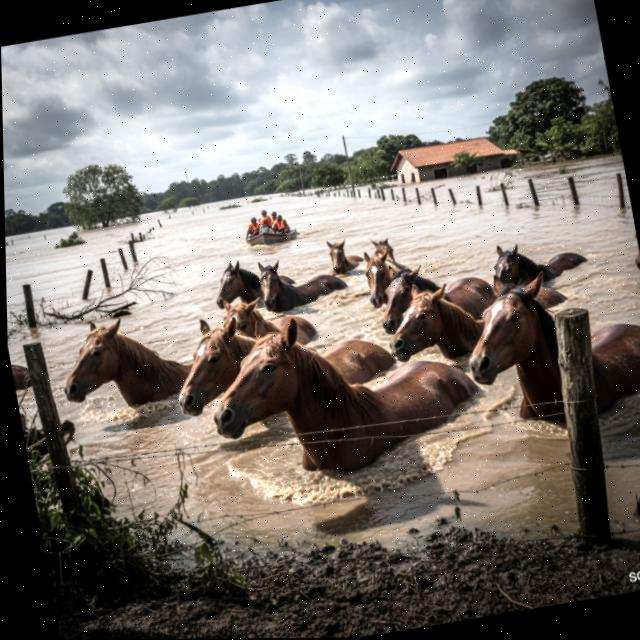civilian: (272, 211, 292, 237), (256, 207, 275, 233), (244, 215, 264, 239), (269, 208, 280, 227)
horse: (191, 278, 504, 498), (159, 281, 410, 445), (447, 252, 640, 454), (47, 291, 219, 436), (373, 265, 576, 382), (360, 246, 504, 336), (214, 281, 323, 363), (479, 224, 595, 300), (248, 245, 353, 318), (204, 249, 300, 316), (354, 238, 427, 316), (479, 262, 574, 314), (317, 235, 374, 284), (369, 236, 401, 267)
